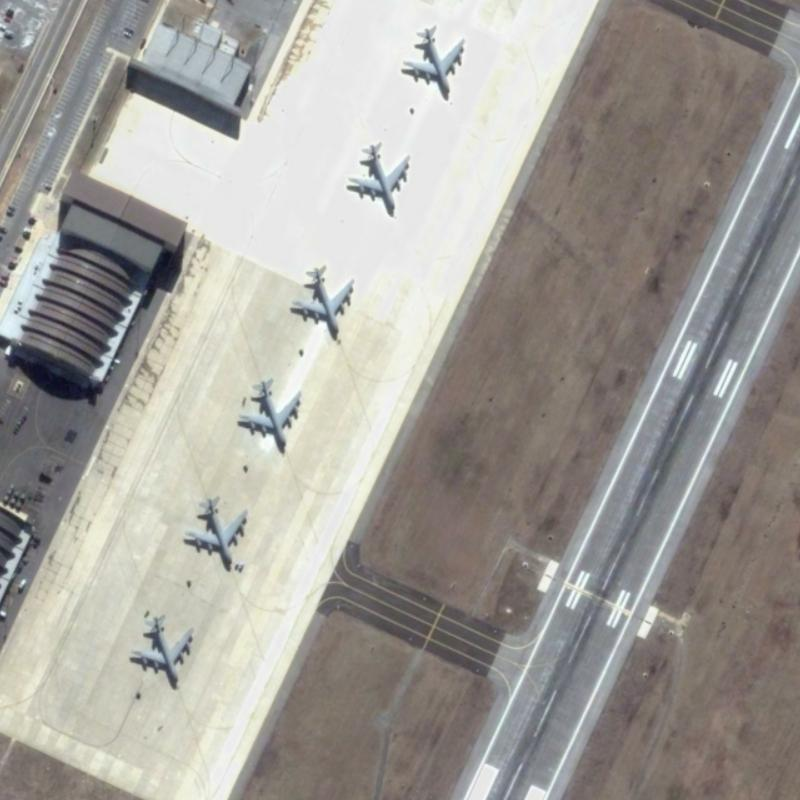A14: (398, 21, 472, 102), (345, 135, 413, 215), (180, 491, 250, 568), (287, 263, 357, 339), (125, 610, 195, 686), (236, 375, 305, 448)
